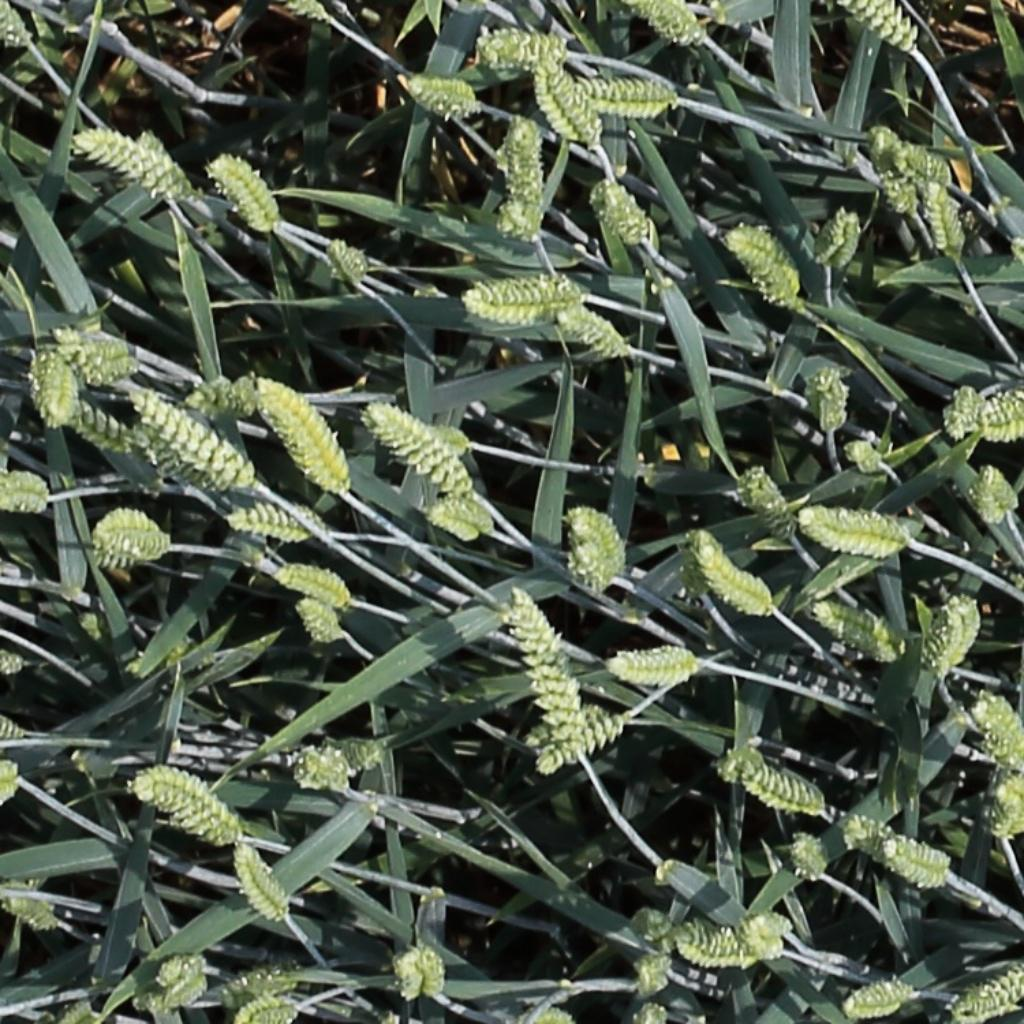0-0: (129, 388, 256, 485), (503, 586, 591, 722), (259, 376, 352, 495), (368, 399, 474, 490), (77, 128, 182, 195), (535, 54, 607, 150), (136, 775, 241, 836), (468, 271, 594, 320), (206, 151, 281, 232), (537, 714, 629, 775), (572, 77, 696, 122), (731, 229, 802, 305), (232, 841, 294, 928), (132, 424, 220, 485), (699, 547, 776, 615), (672, 919, 777, 967), (733, 764, 827, 816), (737, 465, 801, 540), (567, 502, 626, 577), (509, 103, 543, 232), (136, 122, 192, 200), (925, 596, 976, 681), (841, 970, 921, 1022), (973, 693, 1024, 774), (86, 519, 171, 566), (846, 0, 921, 53), (596, 176, 651, 247), (889, 842, 961, 896), (821, 614, 901, 662), (62, 398, 133, 451), (28, 344, 75, 423), (804, 514, 905, 550), (819, 603, 898, 648), (925, 176, 966, 262), (611, 642, 710, 677), (558, 309, 630, 356), (282, 745, 348, 796), (275, 566, 353, 607), (682, 521, 718, 606), (148, 954, 204, 1008), (53, 346, 137, 382), (570, 536, 617, 600), (813, 200, 857, 268), (51, 327, 129, 364), (425, 498, 496, 538), (217, 970, 299, 1004), (854, 119, 901, 178), (982, 384, 1024, 450), (405, 940, 446, 1006), (900, 140, 956, 188), (813, 359, 847, 438), (324, 232, 370, 290), (294, 593, 345, 645), (970, 464, 1011, 528), (197, 376, 258, 419), (641, 2, 704, 43), (480, 34, 566, 64), (335, 729, 389, 776), (840, 812, 904, 850), (736, 908, 801, 945), (791, 828, 831, 888), (0, 463, 50, 510), (409, 80, 477, 114), (492, 1001, 592, 1024), (225, 509, 310, 535), (991, 776, 1022, 845), (625, 901, 674, 944), (1, 897, 58, 929), (943, 386, 972, 442), (635, 958, 681, 993), (236, 995, 290, 1024), (0, 0, 31, 50), (879, 178, 917, 217), (432, 423, 476, 456), (847, 438, 887, 472), (55, 996, 96, 1024), (0, 758, 30, 796), (290, 0, 333, 23), (638, 998, 669, 1024), (0, 715, 27, 740)
